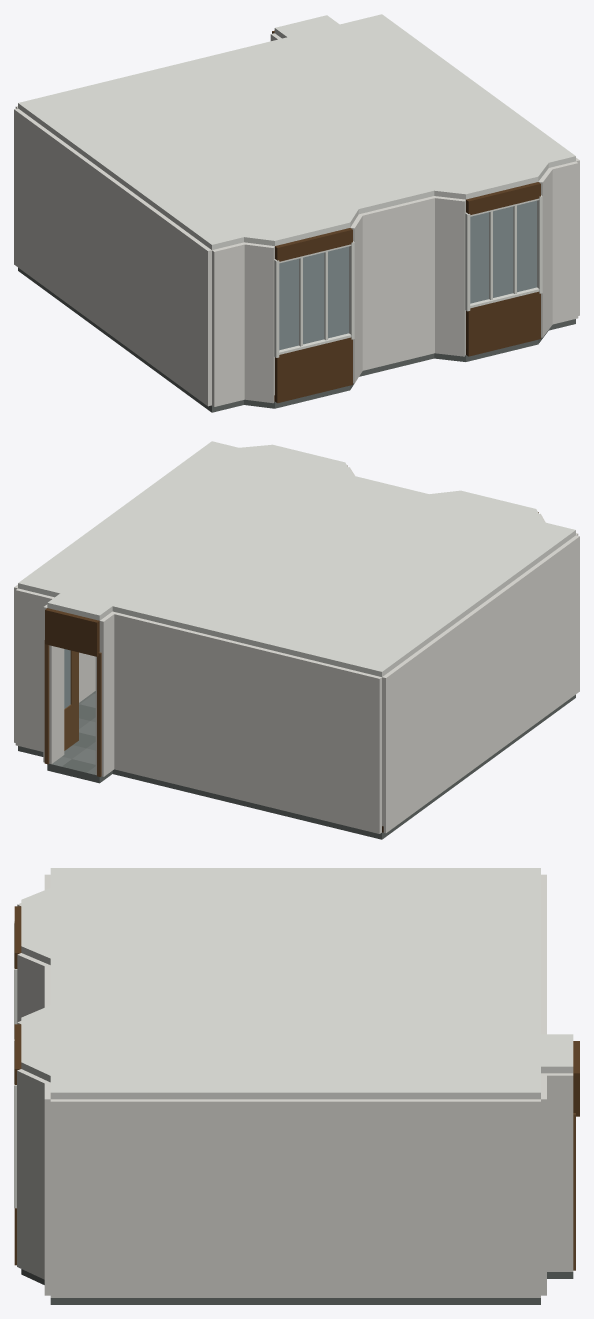
Rendered from old-127-interior-8d5e967ac737.glb.
The picture shows the model from 3 angles, top to bottom: view 1: azimuth 30°, elevation 25°; view 2: azimuth 150°, elevation 25°; view 3: azimuth 270°, elevation 25°; orthographic projection. The views are drawn at different scales.
Parts seen in each view (by area): view 1: old-127; view 2: old-127; view 3: old-127.
Boxes of the visible parts, box(x1,y1,x2,y2) form: old-127: box(14, 14, 579, 412); old-127: box(14, 441, 579, 839); old-127: box(14, 868, 579, 1304).
Size of the model in its own units: 7.4 by 3.19 by 7.71.
